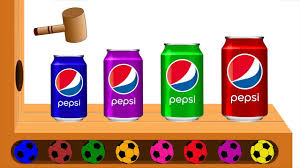can: (220, 27, 270, 128), (160, 46, 212, 127), (104, 46, 145, 123), (50, 49, 90, 124)
